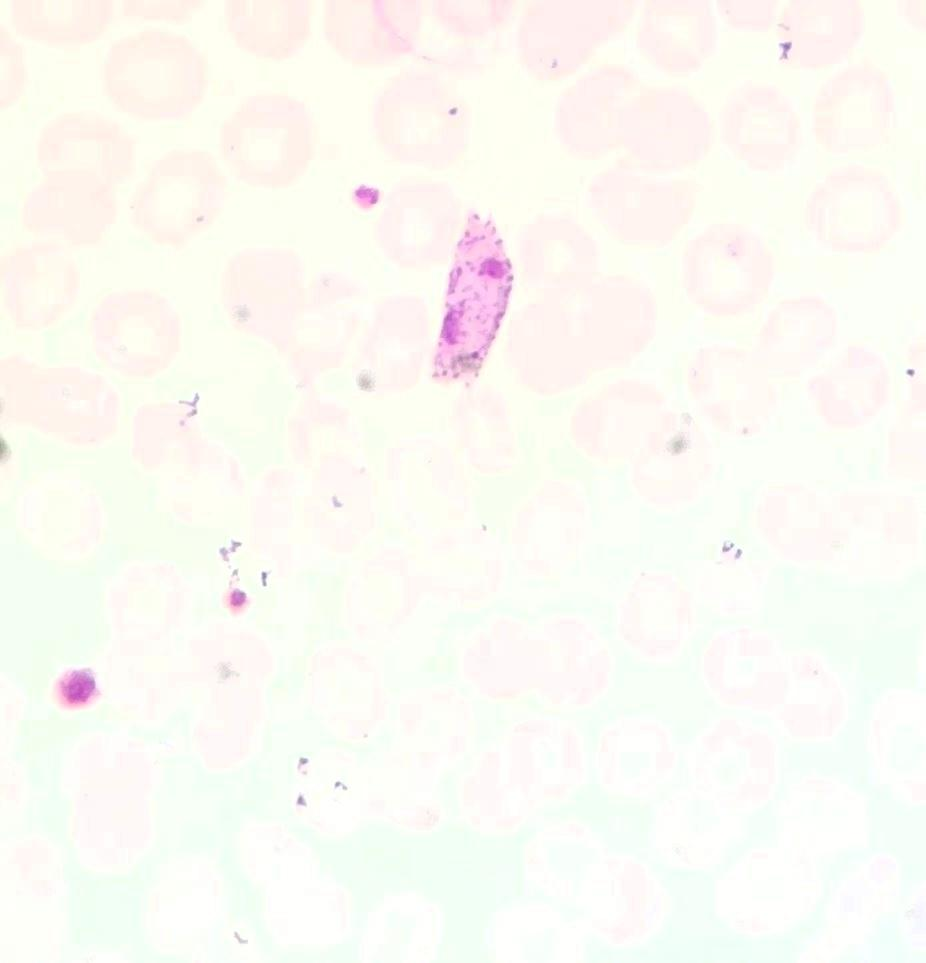Infected: (426, 207, 515, 388)
